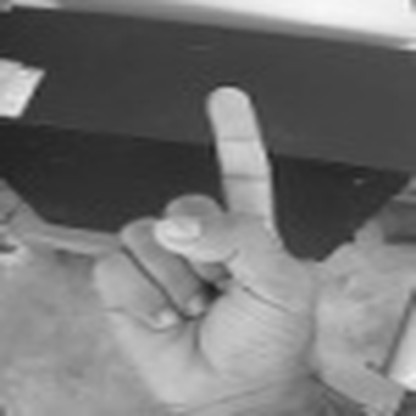d: (90, 78, 317, 400)
